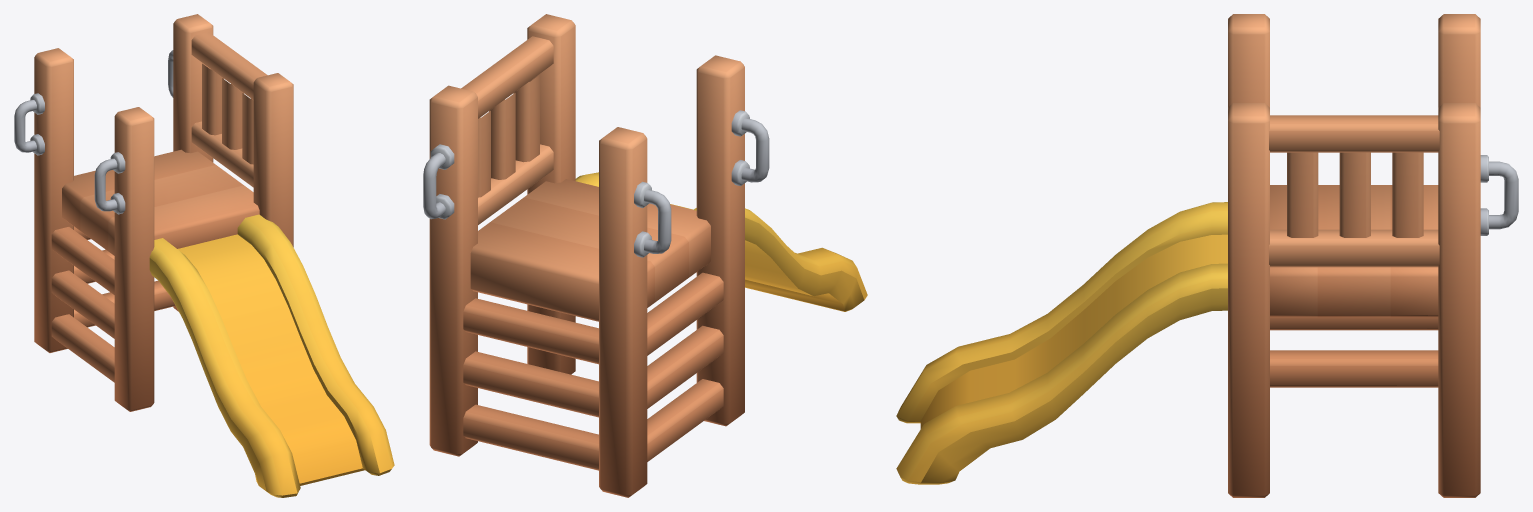
File: slide_A.gltf
3 views of the same model, side by side, from view 1: azimuth 30°, elevation 25°; view 2: azimuth 150°, elevation 25°; view 3: azimuth 270°, elevation 25° (orthographic). The views are drawn at different scales.
Parts seen in each view (by area): view 1: slide_A; view 2: slide_A; view 3: slide_A.
Boxes of the visible parts, x1,y1,x2,y2 form: slide_A: (14,14,394,497); slide_A: (423,14,867,497); slide_A: (896,14,1518,497).
Size of the model in its own units: 2.76 by 4 by 5.91.
1 material, 1 textured.
